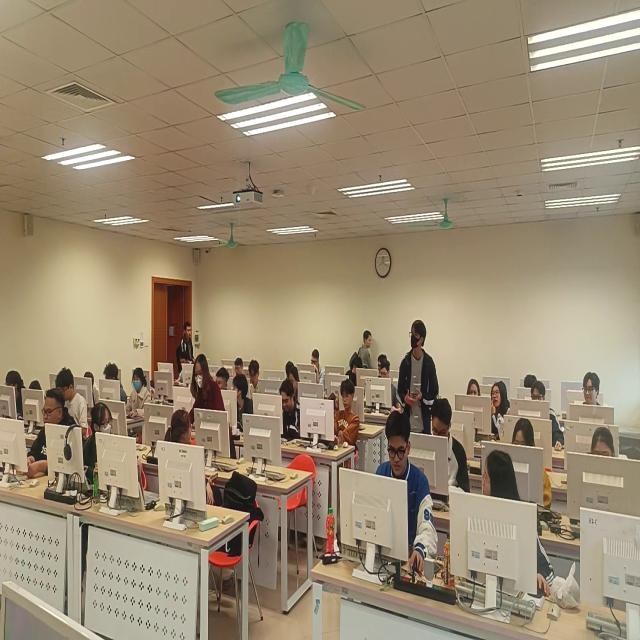raise_head: (491, 384, 511, 441), (468, 380, 482, 396)
stand: (189, 354, 237, 462), (397, 319, 440, 435), (177, 322, 195, 378), (357, 331, 374, 369)
using_computer: (377, 412, 440, 574), (27, 390, 78, 480), (431, 399, 471, 494), (513, 419, 553, 510), (532, 381, 565, 453), (56, 369, 90, 437), (335, 380, 361, 449), (126, 368, 152, 420), (280, 380, 300, 439), (5, 370, 28, 421), (104, 363, 128, 408), (379, 361, 397, 409), (591, 428, 616, 458), (583, 373, 603, 406), (84, 372, 101, 407), (312, 349, 326, 389), (249, 359, 262, 400), (29, 380, 47, 401), (289, 368, 300, 401), (216, 368, 231, 390), (525, 375, 538, 389), (236, 359, 245, 375), (287, 362, 296, 375)
